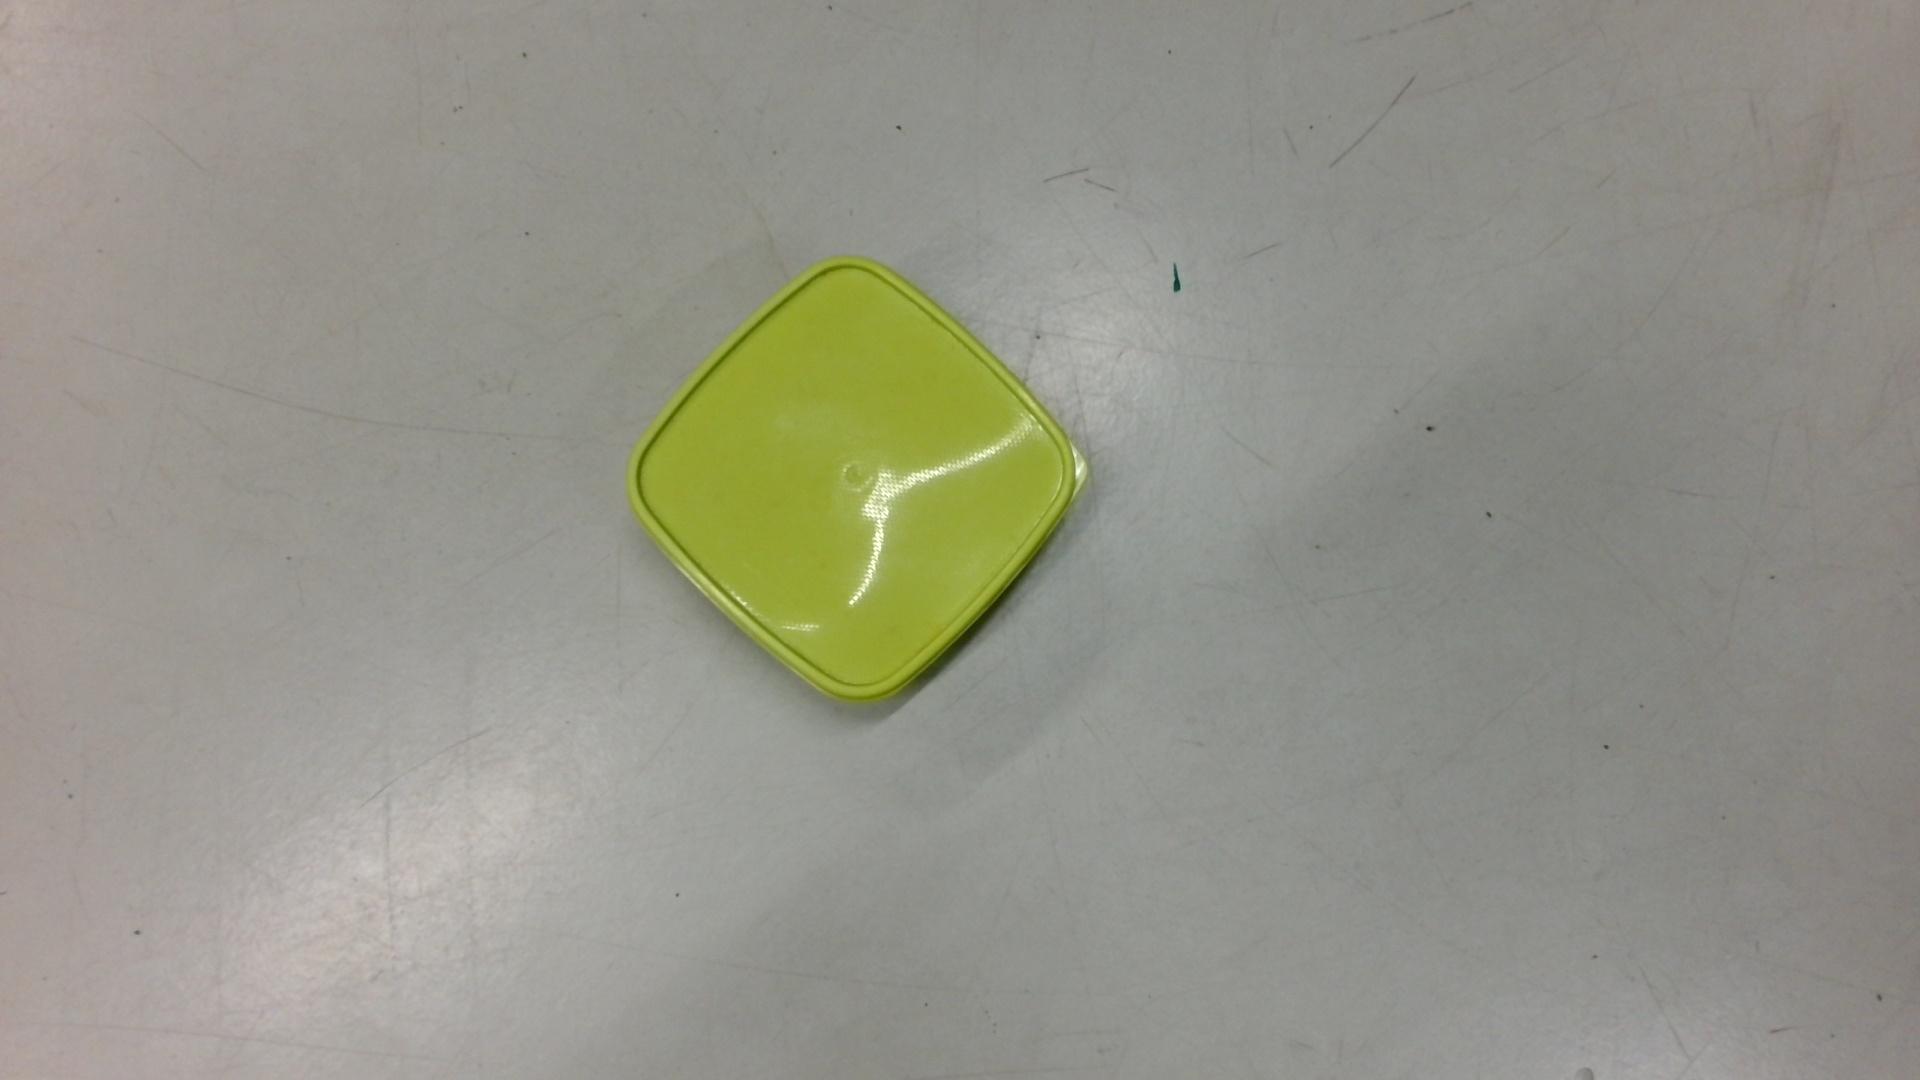Box: (621, 255, 1098, 715)
